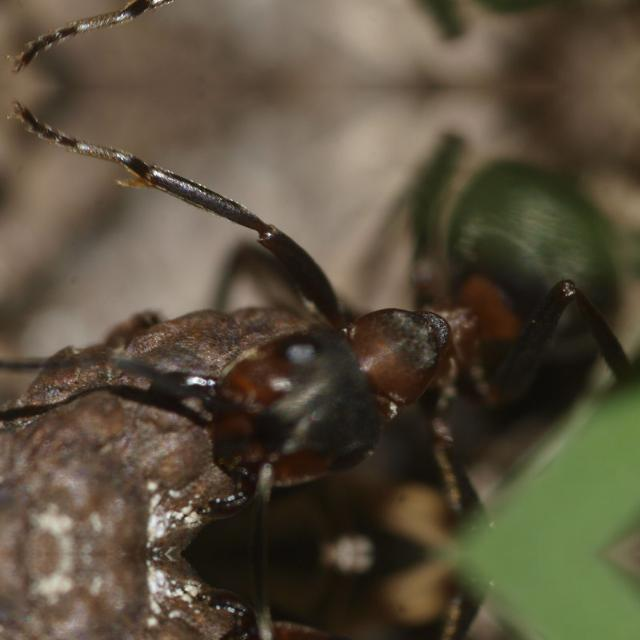Formica: (65, 86, 639, 546)
